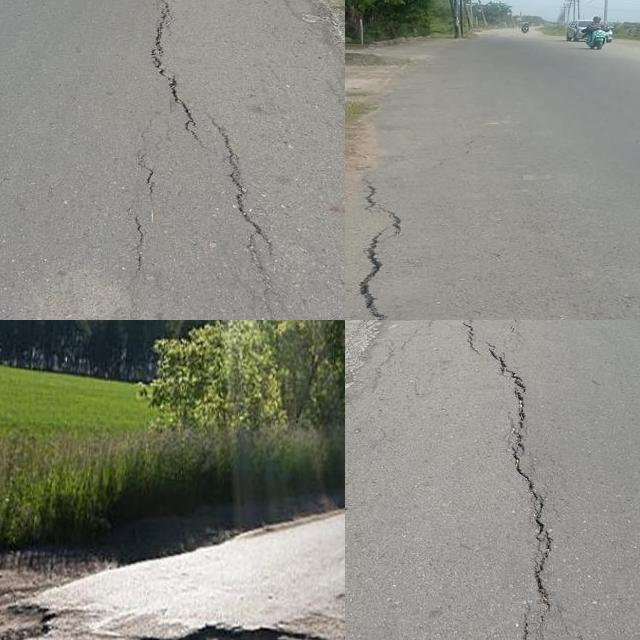Memanjang: (131, 0, 289, 264), (453, 320, 565, 640), (354, 153, 413, 320)
